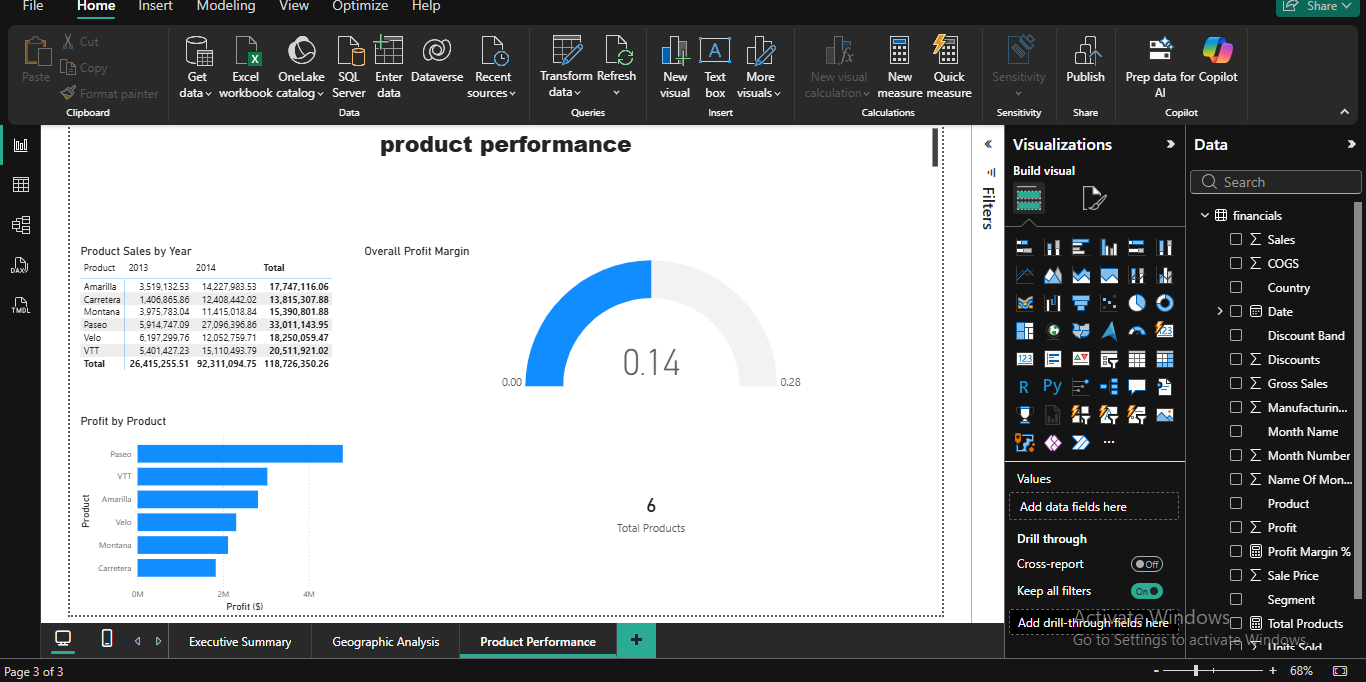

What the dashboard file says about the page in this screenshot:
{"tool":"powerbi","page":{"name":"Product Performance","canvas":[1280,720],"ordinal":2},"visuals":[{"type":"textbox","box":[10.3,0,1269.6,69.1],"z":0},{"type":"pivotTable","title":"Product Sales by Year","fields":{"Rows":["financials.Product"],"Columns":["financials.Year"],"Values":["Sum(financials. Sales)"]},"box":[10.3,174.9,417.3,218.9],"z":1000},{"type":"barChart","title":"Profit by Product","fields":{"Category":["financials.Product"],"Y":["Sum(financials.Profit)"]},"box":[10.3,424.7,417.3,295.3],"z":2000},{"type":"gauge","title":"Overall Profit Margin","fields":{"Y":["financials.Profit Margin %"]},"box":[427,175,853,219],"z":3000},{"type":"card","fields":{"Values":["financials.Total Products"]},"box":[634.8,414.4,437.9,305.6],"z":4000}]}

Visuals, with their boxes on the page's 1280x720 design canvas (x1, y1, x2, y2). These are canvas units, not pixel positions in the 1366x682 screenshot, which may show the page scaled, cropped or inside an application window:
textbox: region(10, 0, 1280, 69)
"Product Sales by Year" pivotTable: region(10, 175, 428, 394)
"Profit by Product" barChart: region(10, 425, 428, 720)
"Overall Profit Margin" gauge: region(427, 175, 1280, 394)
card - financials.Total Products: region(635, 414, 1073, 720)
